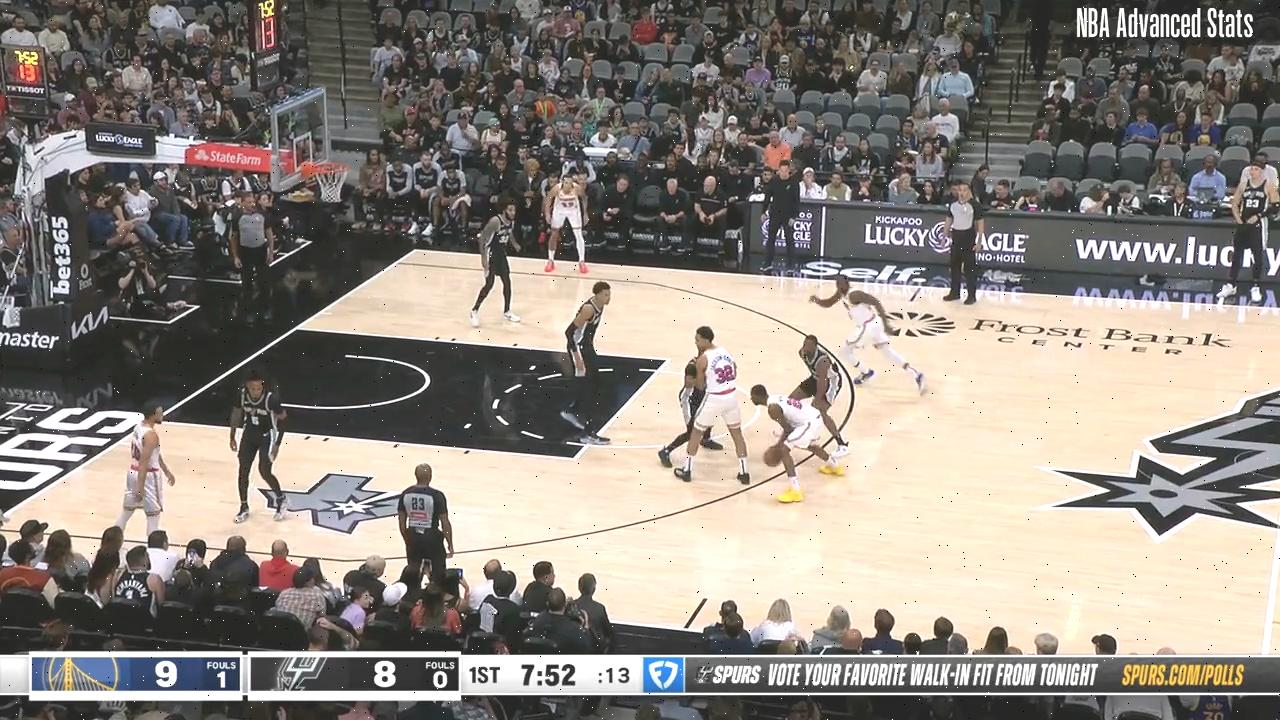basketball: (760, 443, 785, 471)
